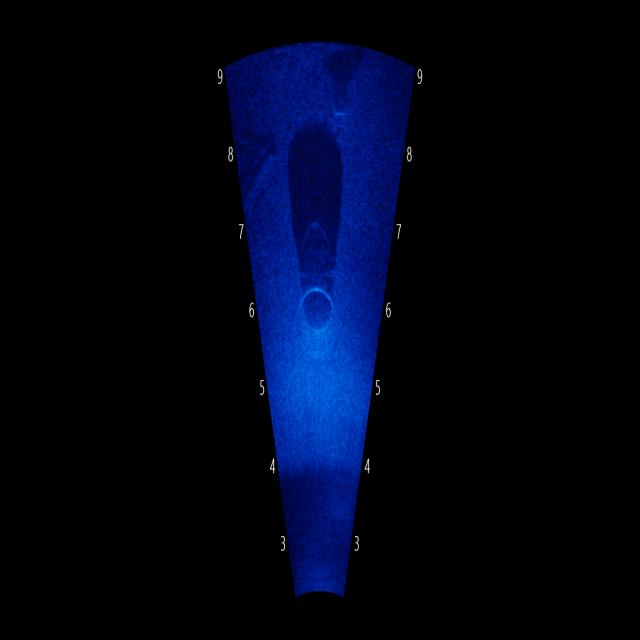circle: (270, 271, 360, 388)
